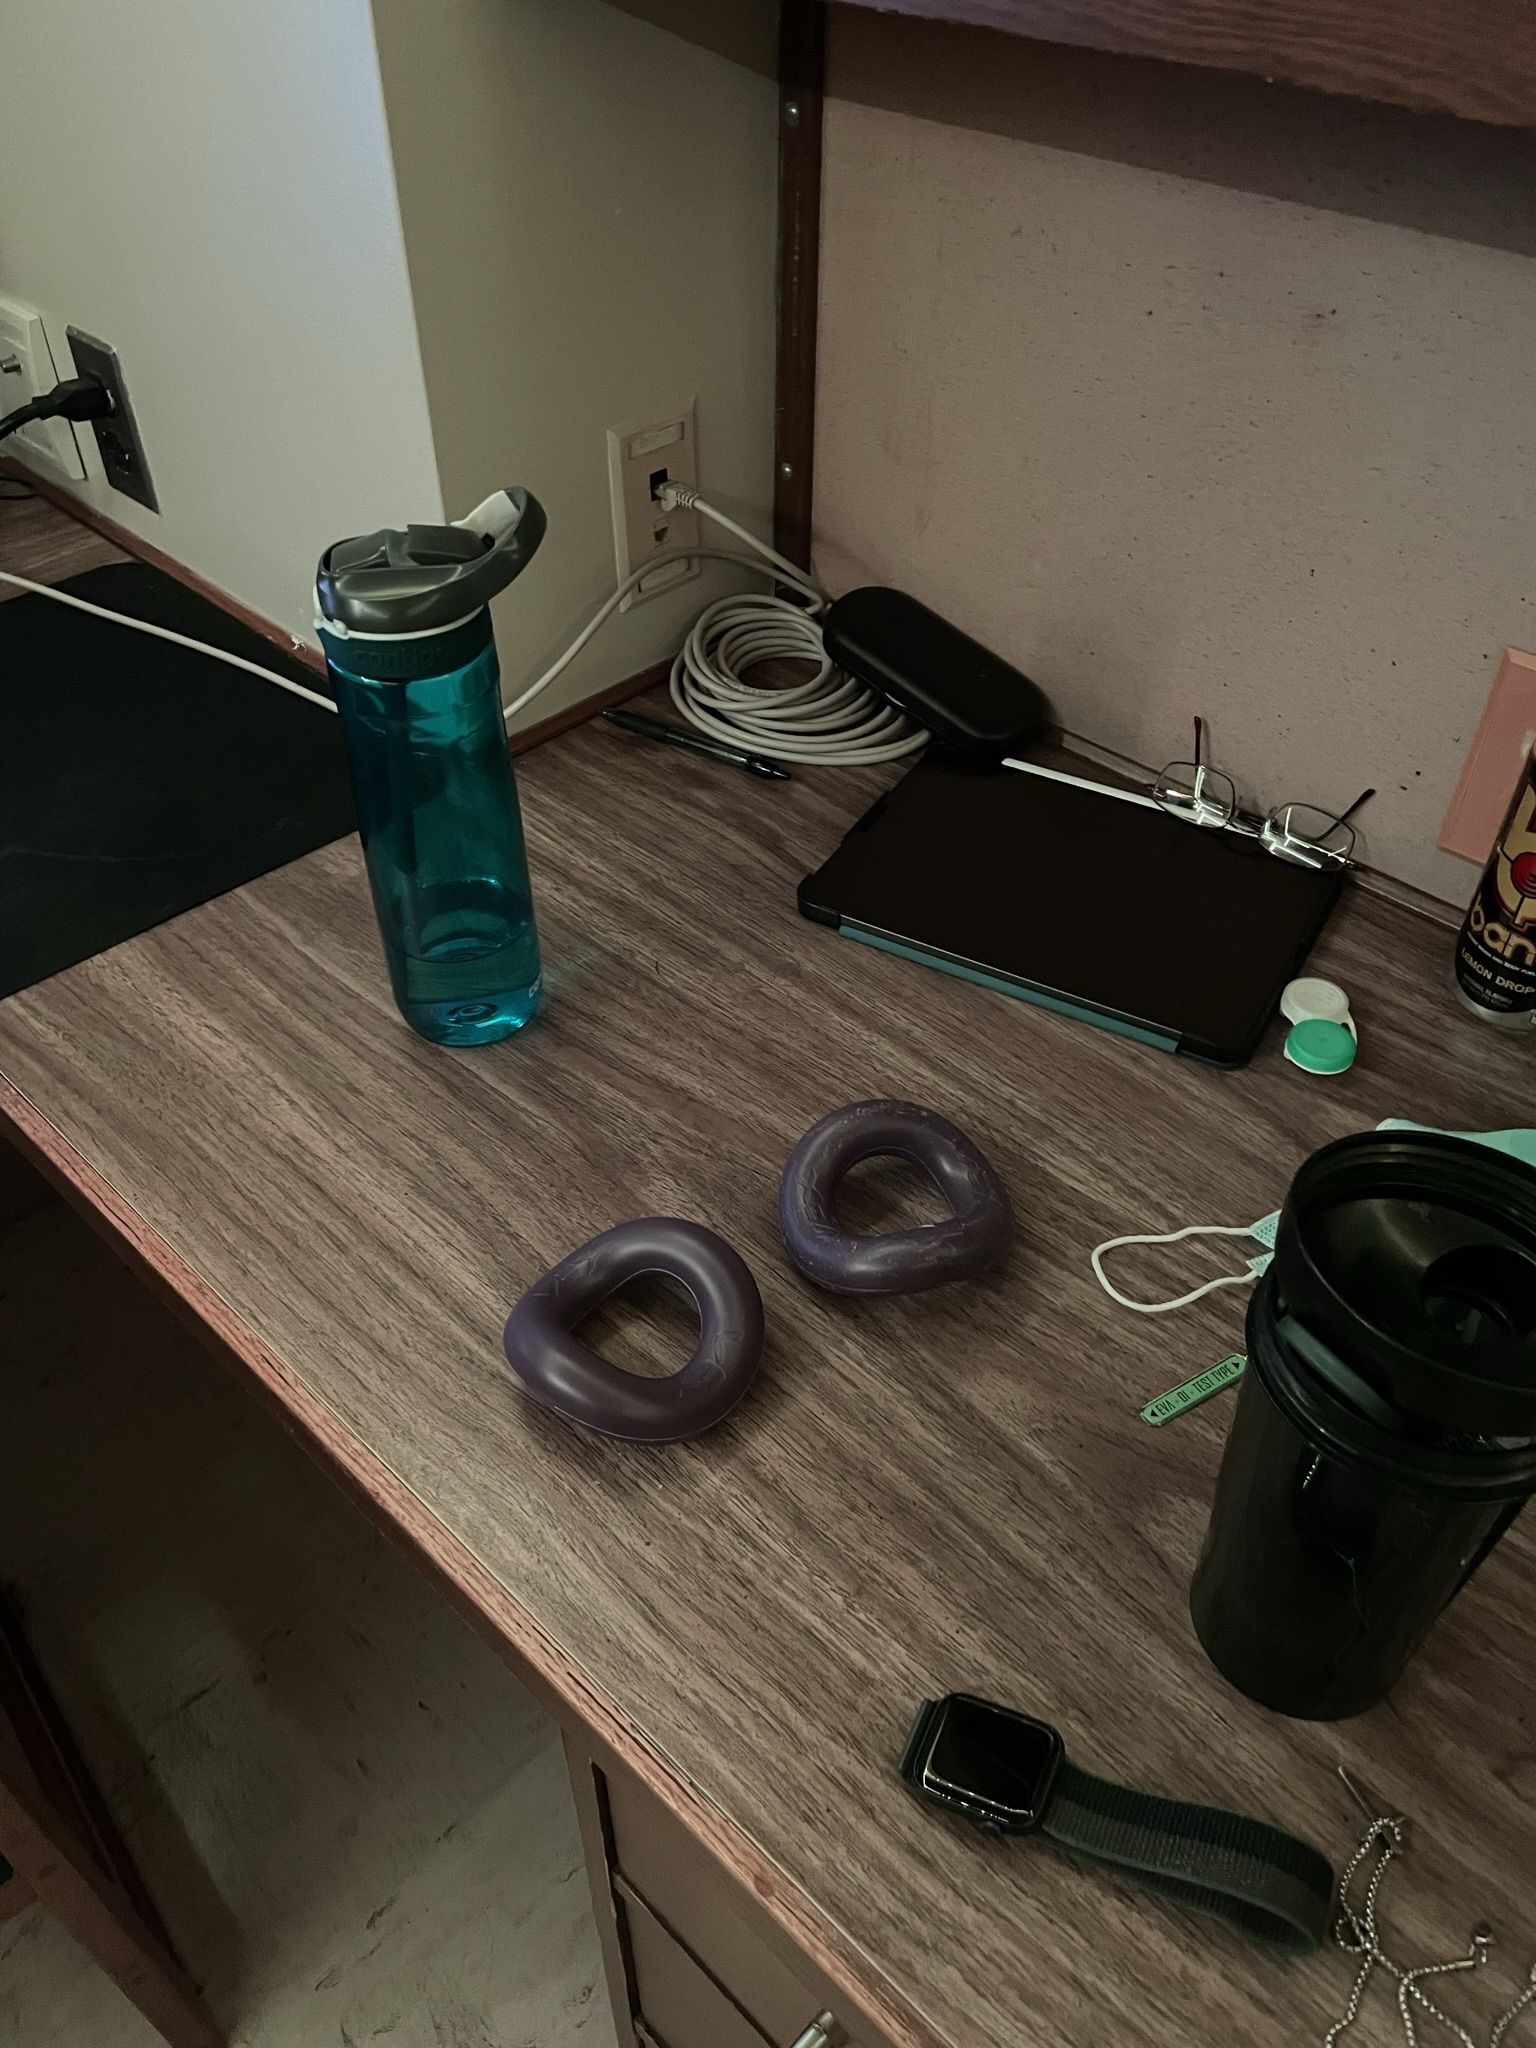ring: (500, 1216, 765, 1447), (766, 1095, 1012, 1305)
